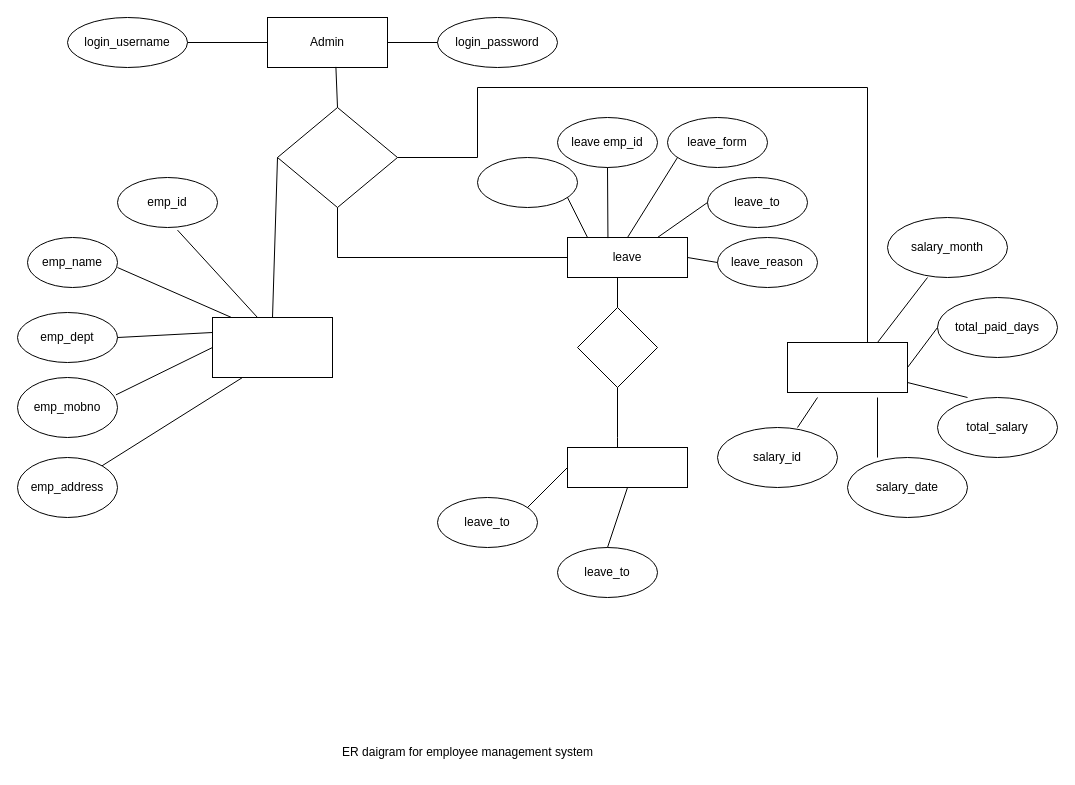
The diagram is 1075 pixels wide and 785 high, and some of its shapes have lost their labels. The centre of each missing label's shape, as x and y in pixels:
"Department" goes at [627,467].
"EMPLOYEE" goes at [272,347].
"Has" goes at [617,347].
"leave_id" goes at [527,182].
"manage" goes at [337,157].
"salary" goes at [847,367].
